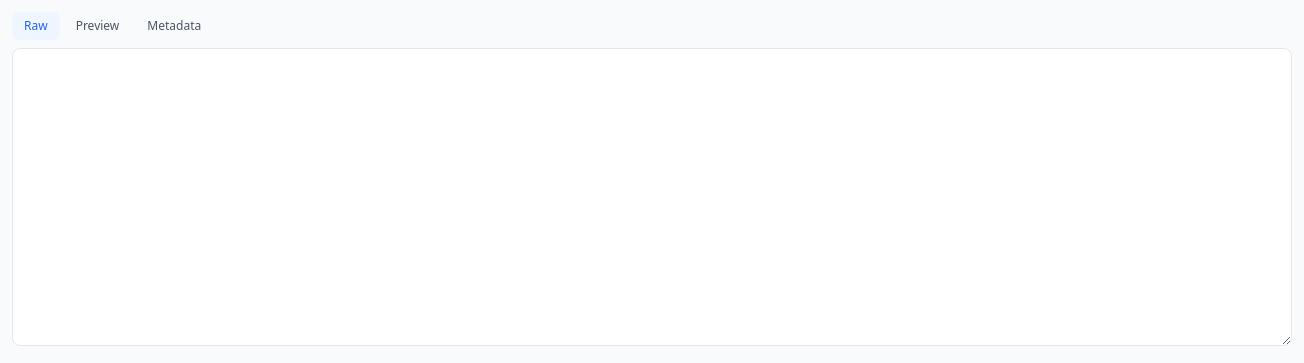
Test: MarkdownRawPreview › shows a loading indicator in the Metadata pane when isLoading is true
Click the button "Metadata" at (174, 26), box [135, 12, 213, 40]
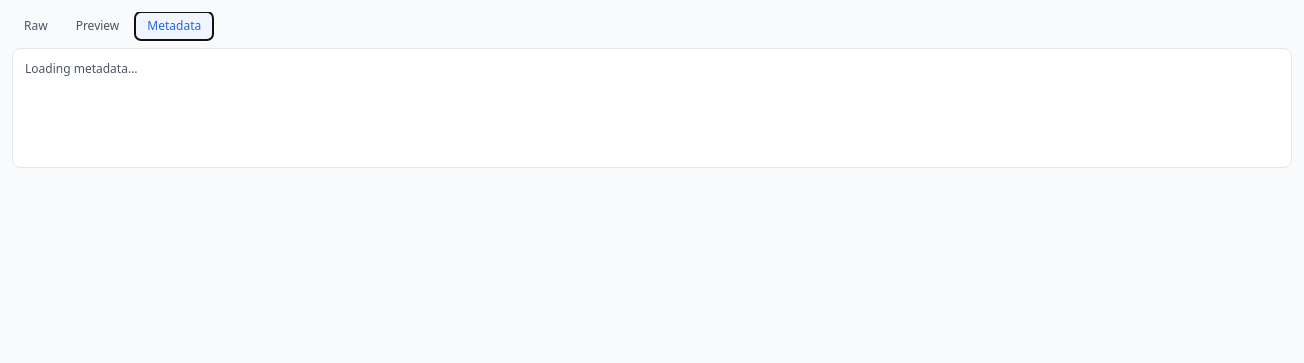
Now the text "Loading metadata…" is shown, box [25, 60, 137, 77]
